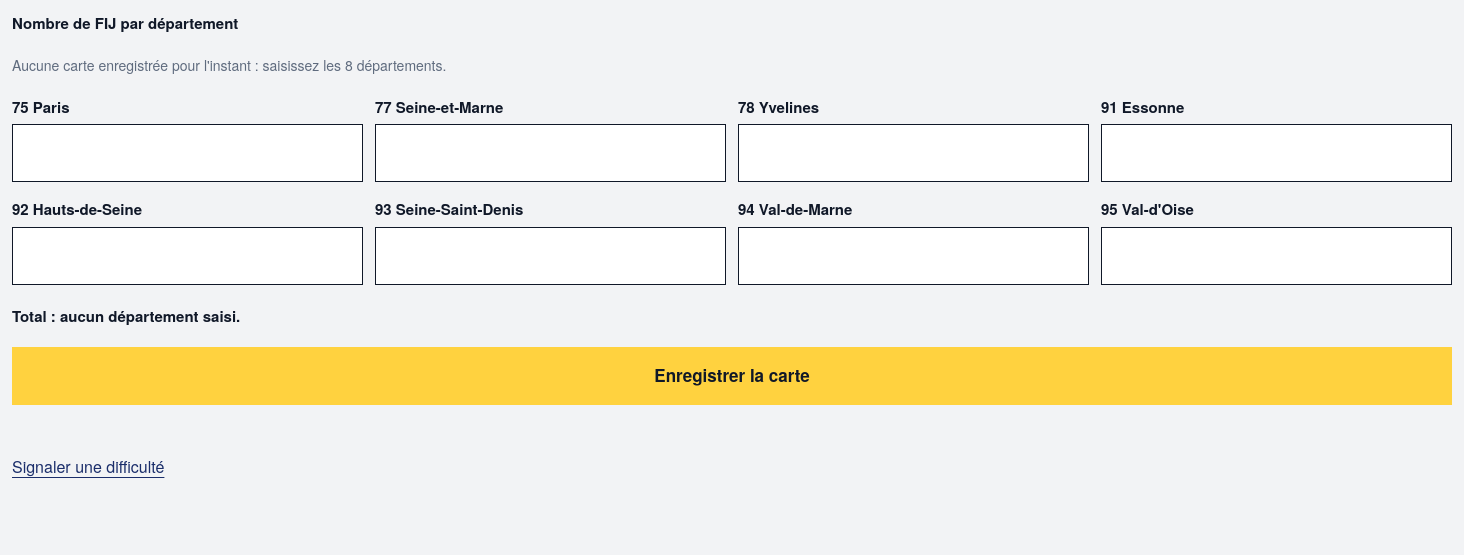
Test: FormulaireCarteFij › premier envoi : champs vides, chacun demandé avant l’envoi
Expected: the text "Aucune carte enregistrée pour l'instant : saisissez les 8 départements." is shown, [12,54,446,74]
Click the button named "Enregistrer la carte" at (732, 376), box [12,347,1452,405]
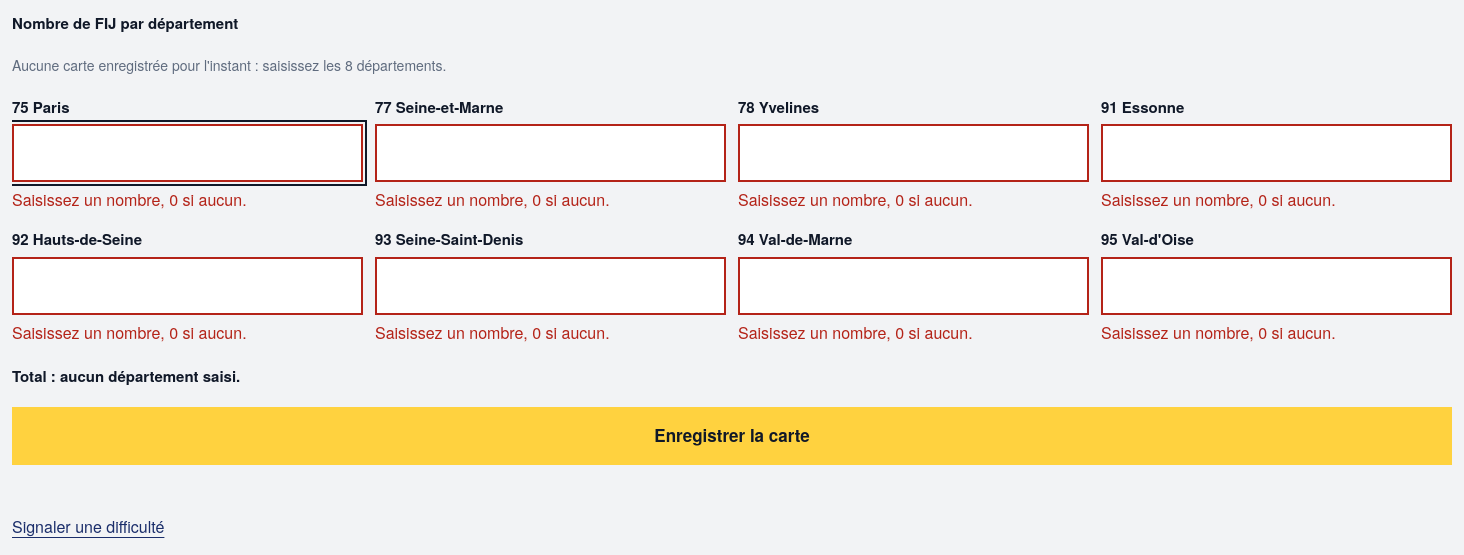
Result: the text "Saisissez un nombre, 0 si aucun." is shown 8 times
